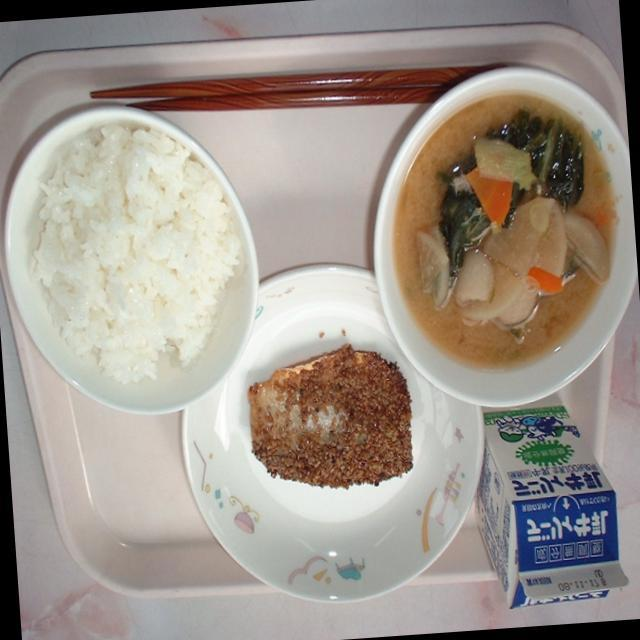Rice: (0, 111, 272, 423)
